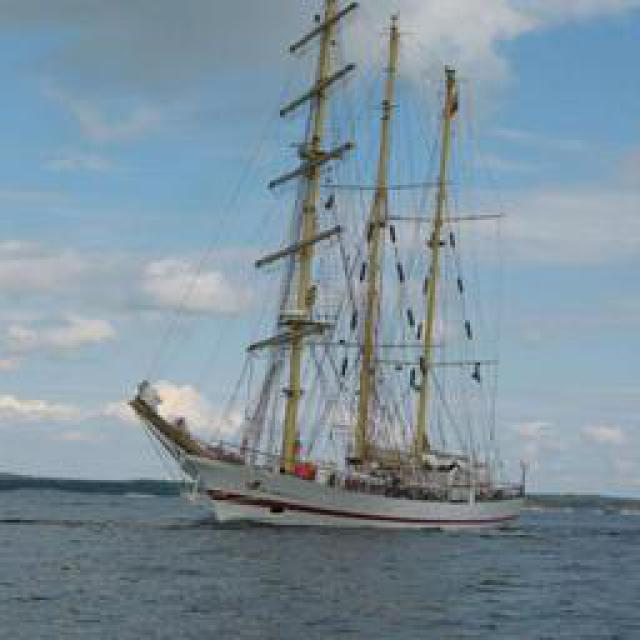Ship: (142, 6, 530, 536)
